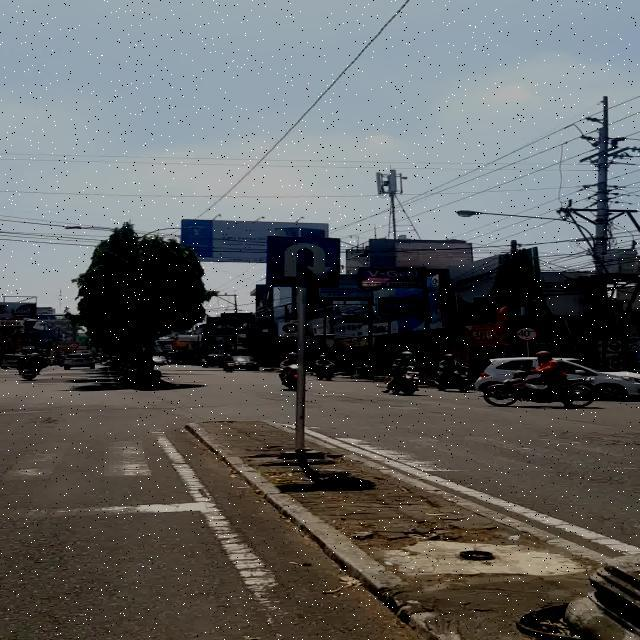Putar Balik: (266, 235, 340, 288)
